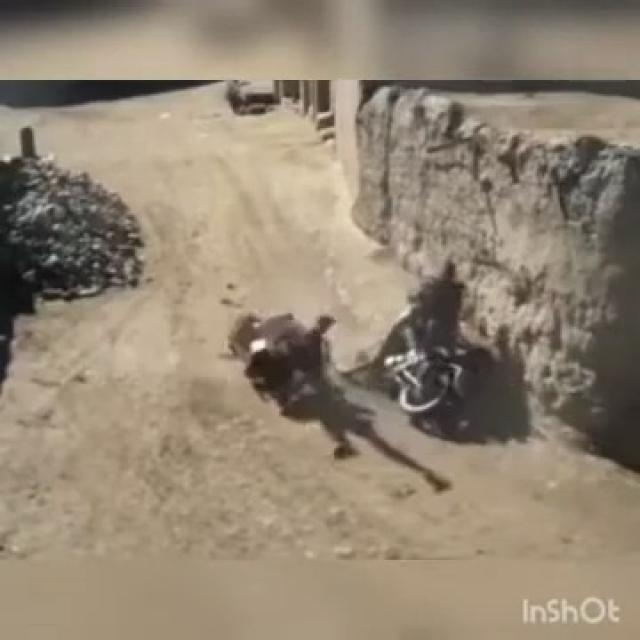accident: (377, 266, 482, 430), (240, 290, 340, 398)
